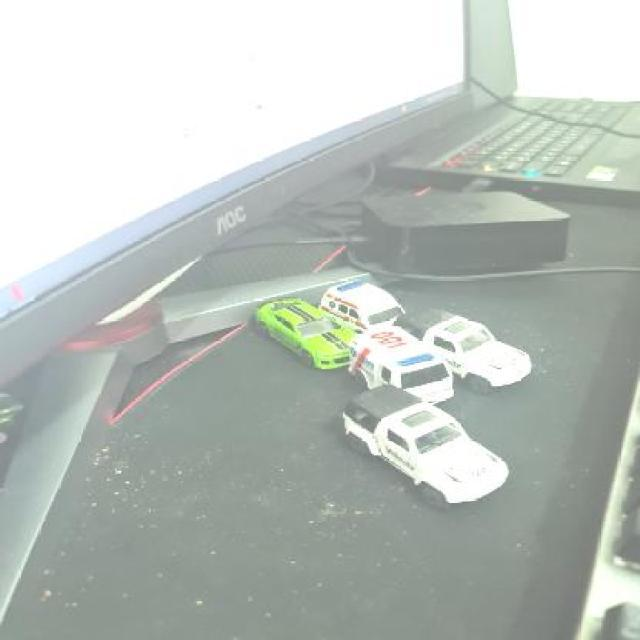car: (328, 384, 530, 510), (404, 304, 538, 388), (344, 326, 459, 406), (256, 294, 366, 371), (312, 278, 405, 334)
